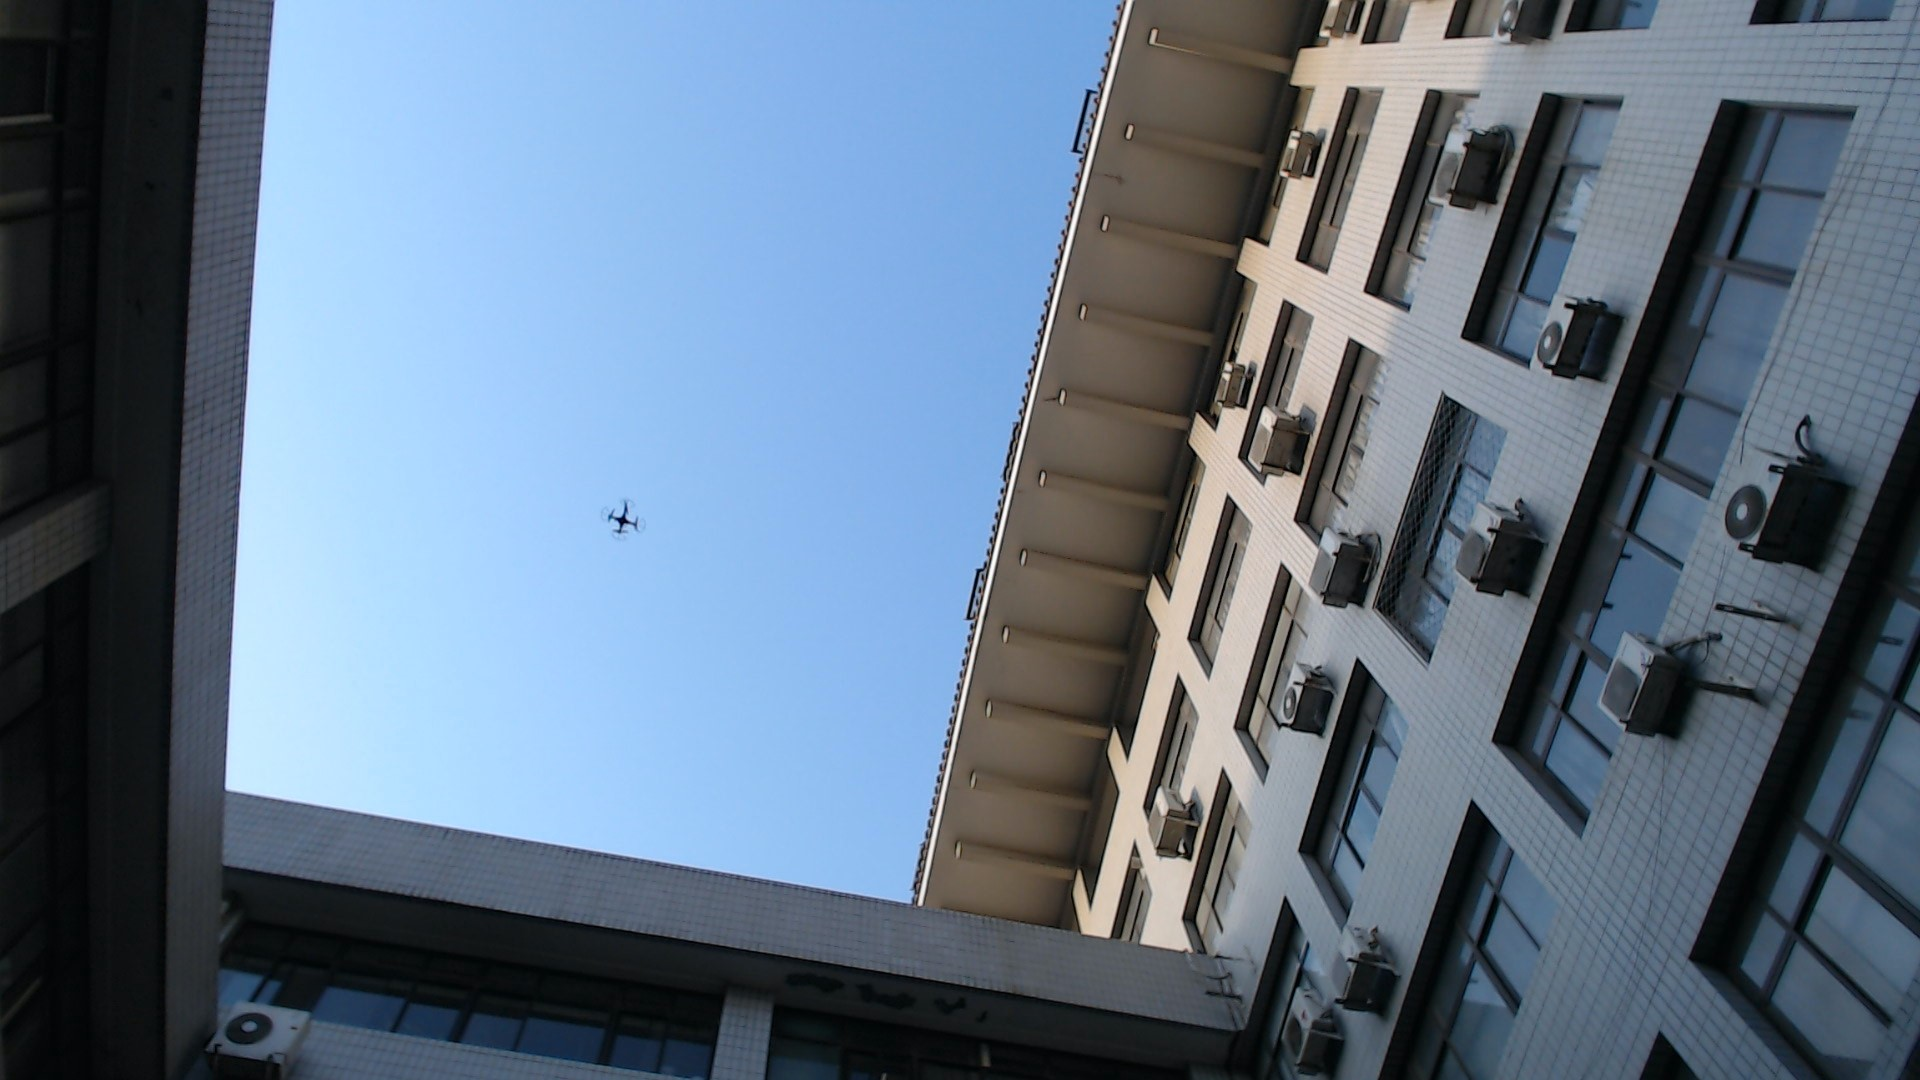drone: (588, 489, 655, 554)
